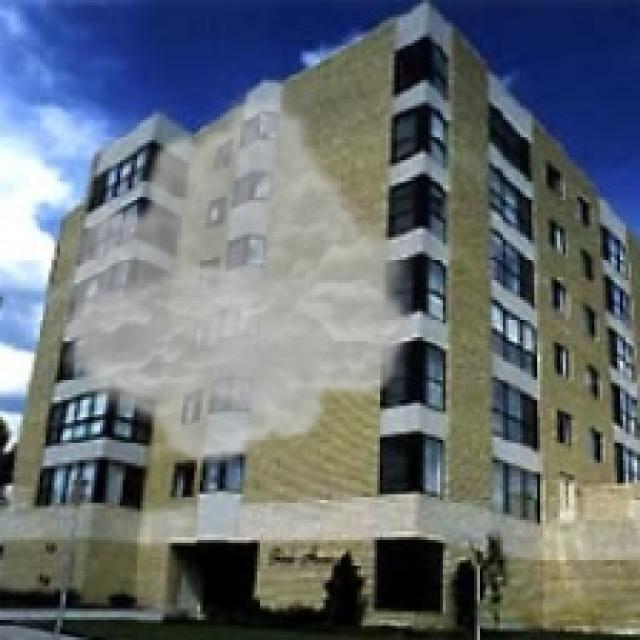Smoke: (51, 89, 420, 468)
